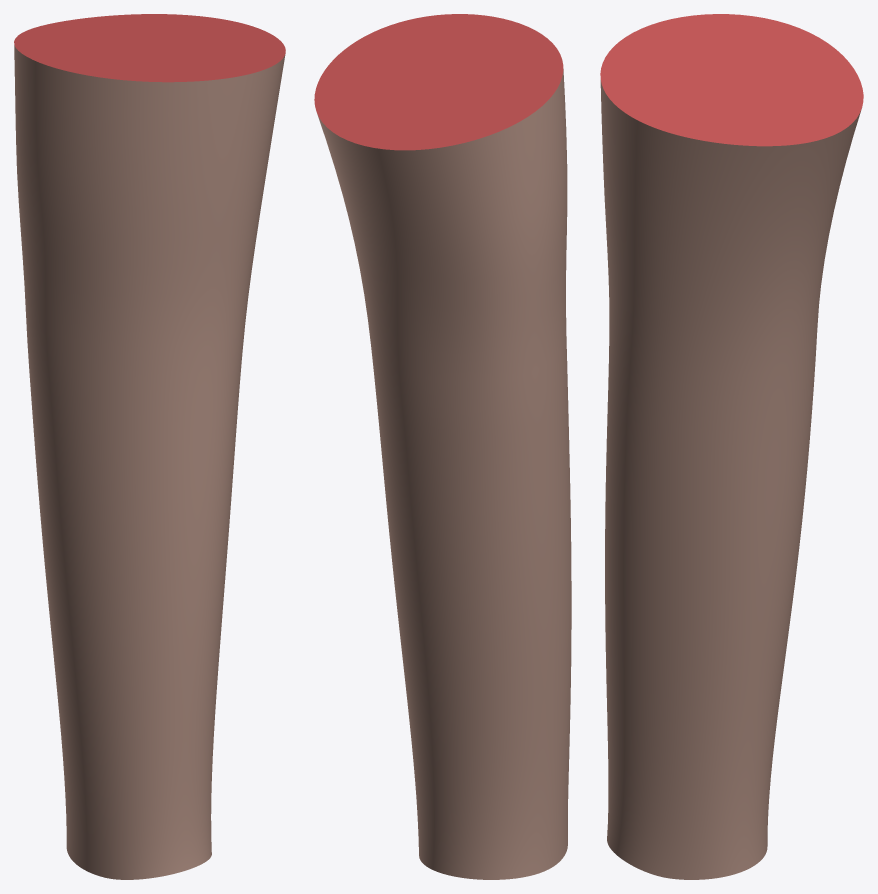
3 views of the same model, side by side, from view 1: azimuth 30°, elevation 25°; view 2: azimuth 150°, elevation 25°; view 3: azimuth 270°, elevation 25° (orthographic).
Visible parts, largest first — view 1: polySurface35; view 2: polySurface35; view 3: polySurface35.
Boxes of the visible parts, x1,y1,x2,y2 form: polySurface35: [14, 14, 285, 879]; polySurface35: [314, 14, 571, 879]; polySurface35: [600, 14, 863, 879].
Size of the model in its own units: 2.49 by 8.41 by 2.5.
